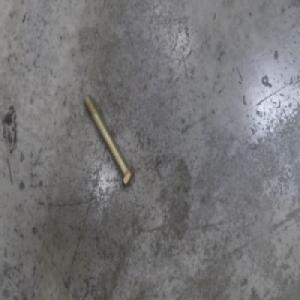Bolt: (82, 91, 135, 190)
